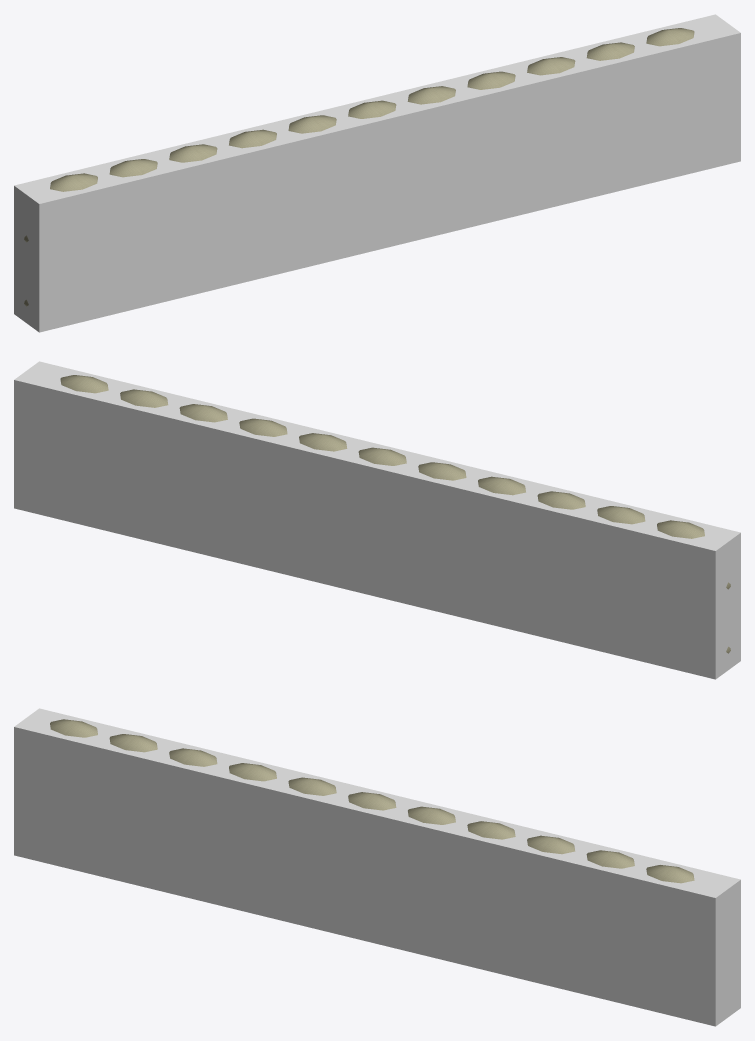
File: SandbagWall.fbx
3 views of the same model, one above another, from view 1: azimuth 30°, elevation 25°; view 2: azimuth 150°, elevation 25°; view 3: azimuth 330°, elevation 25° (orthographic).
Visible parts, largest first — view 1: COL_Static, LOD0; view 2: COL_Static, LOD0; view 3: COL_Static, LOD0.
Boxes of the visible parts, x1,y1,x2,y2 form: COL_Static: [14, 14, 740, 332]; LOD0: [24, 28, 694, 306]; COL_Static: [14, 361, 740, 679]; LOD0: [60, 375, 730, 653]; COL_Static: [14, 708, 740, 1026]; LOD0: [50, 719, 694, 883].
Size of what is drawn, in the model's own units: 803 by 148 by 50.
